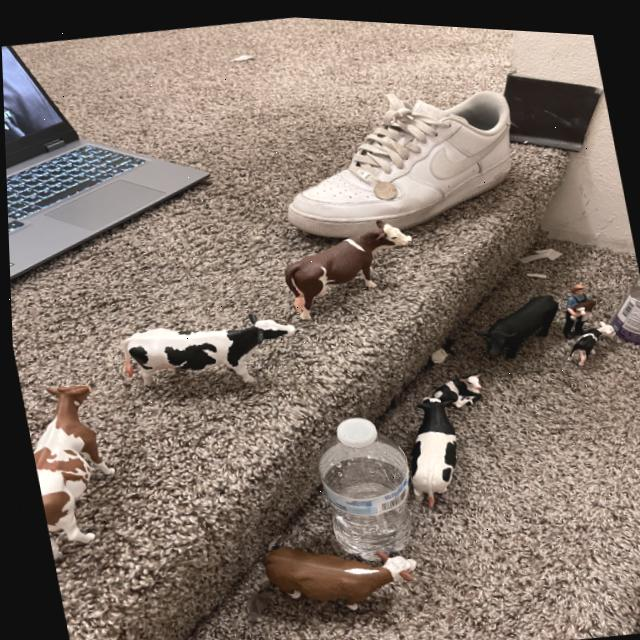cow: (20, 379, 122, 549), (274, 206, 423, 319), (119, 314, 298, 390), (256, 544, 412, 604), (474, 280, 568, 362), (405, 392, 455, 502), (563, 308, 616, 360), (427, 368, 481, 408), (566, 288, 597, 311)
person: (560, 276, 589, 334)
